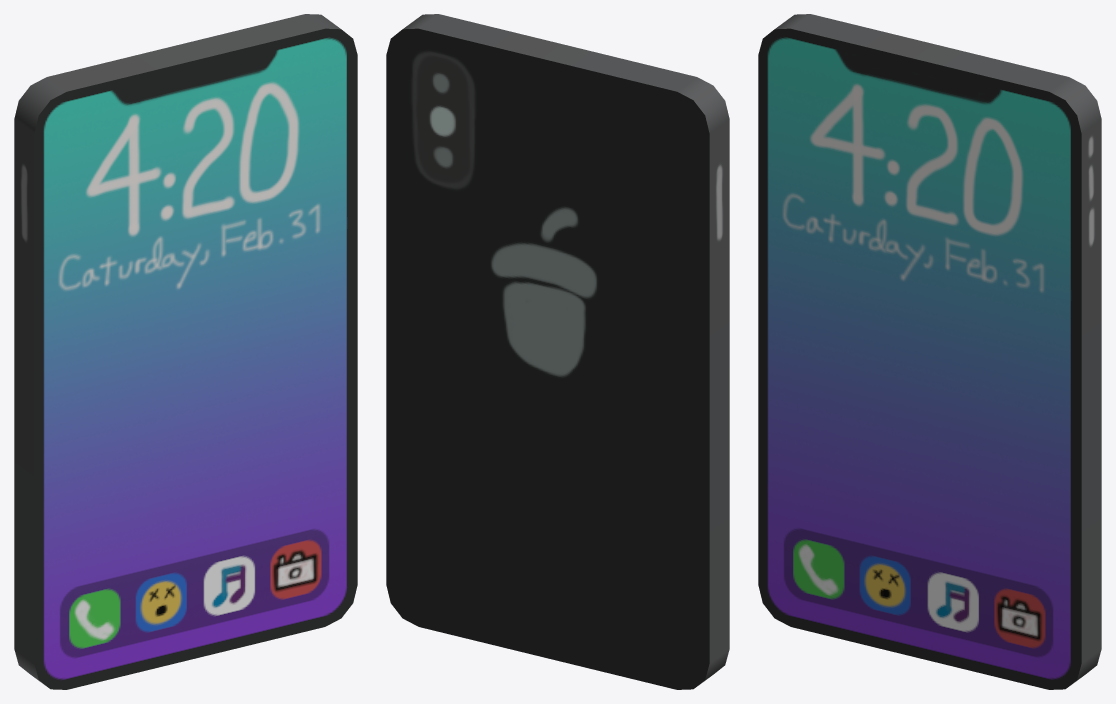
File: Phone.fbx
The picture shows the model from 3 angles, left to right: view 1: azimuth 30°, elevation 25°; view 2: azimuth 150°, elevation 25°; view 3: azimuth 330°, elevation 25°; orthographic projection.
Visible parts, largest first — view 1: Phone; view 2: Phone; view 3: Phone.
Boxes of the visible parts, x1,y1,x2,y2 form: Phone: [14, 14, 357, 689]; Phone: [386, 14, 729, 689]; Phone: [758, 14, 1101, 689].
Bounding box in the file's own units: 1.3 × 2.3 × 0.1398.
Materials: 1 (1 with a texture image).
